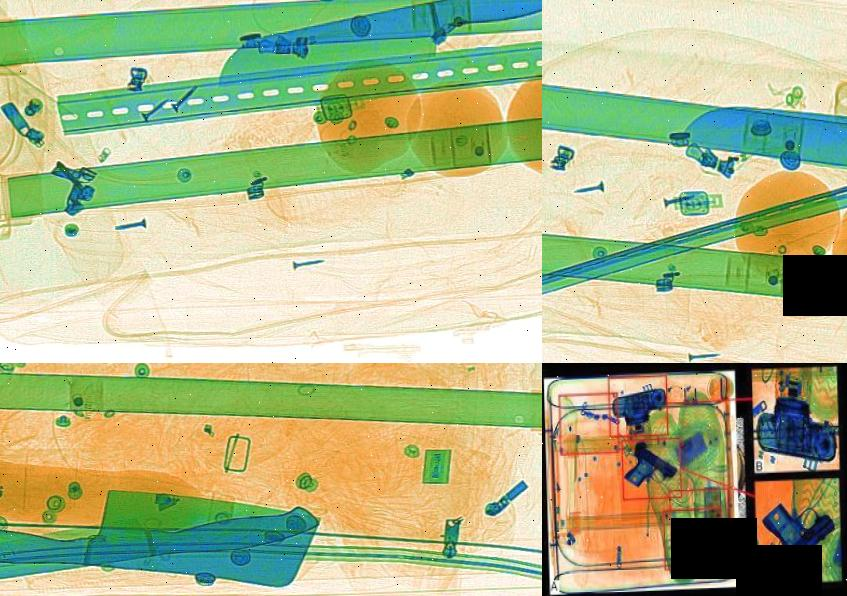Gun: (759, 498, 836, 576), (617, 437, 677, 487)
Knife: (0, 457, 325, 596), (192, 0, 542, 101), (0, 497, 319, 586), (670, 83, 847, 199)
